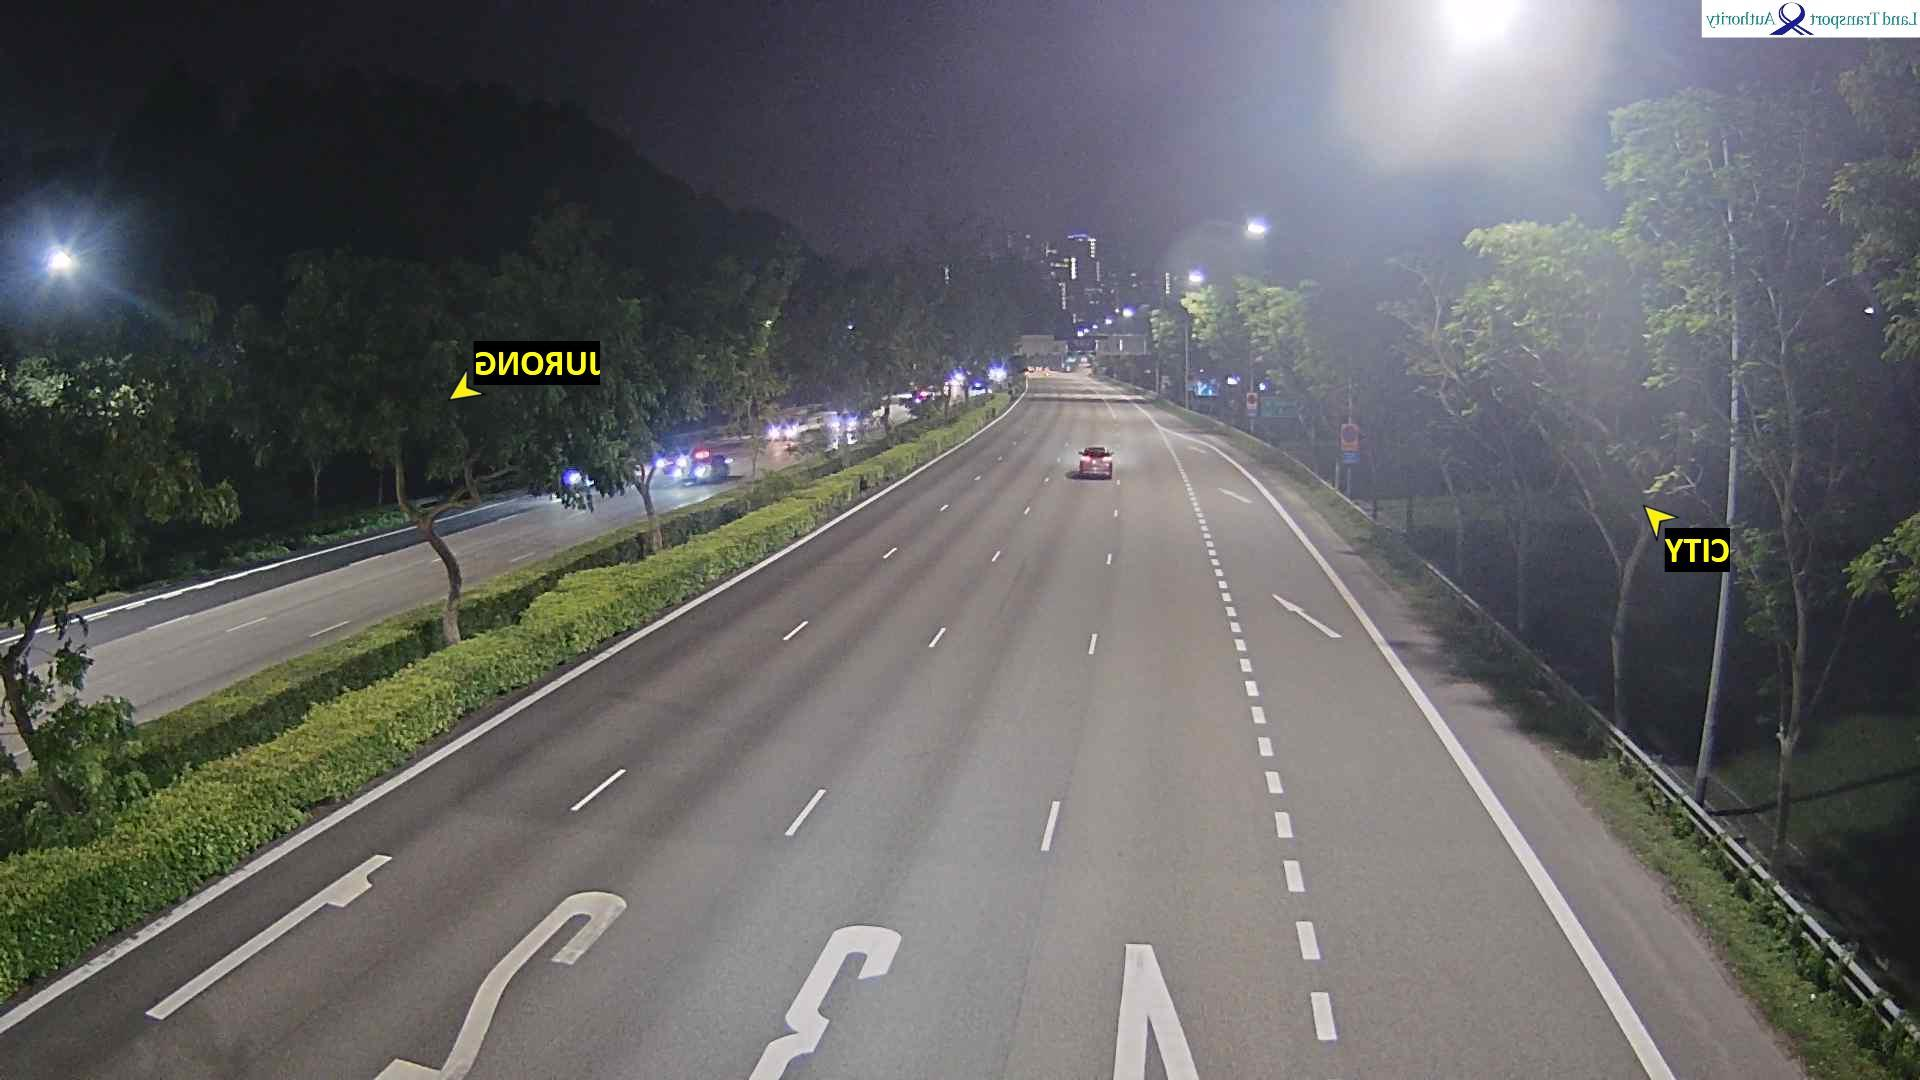cars: (681, 445, 733, 484), (1079, 444, 1115, 478), (654, 446, 685, 473), (767, 418, 800, 441), (562, 467, 585, 489), (971, 378, 989, 393)
